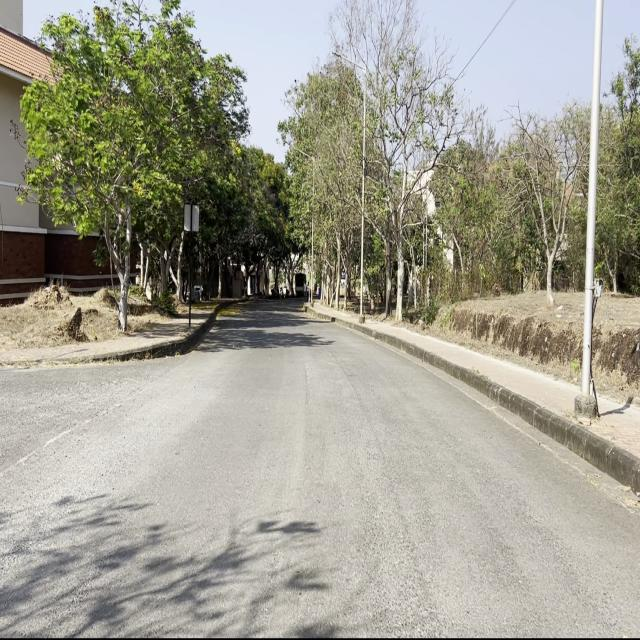Road: (2, 308, 638, 635)
